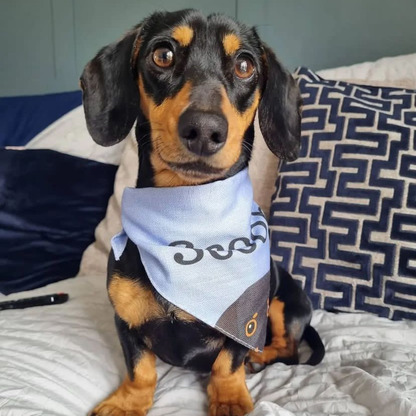dachshund: (77, 19, 334, 395)
